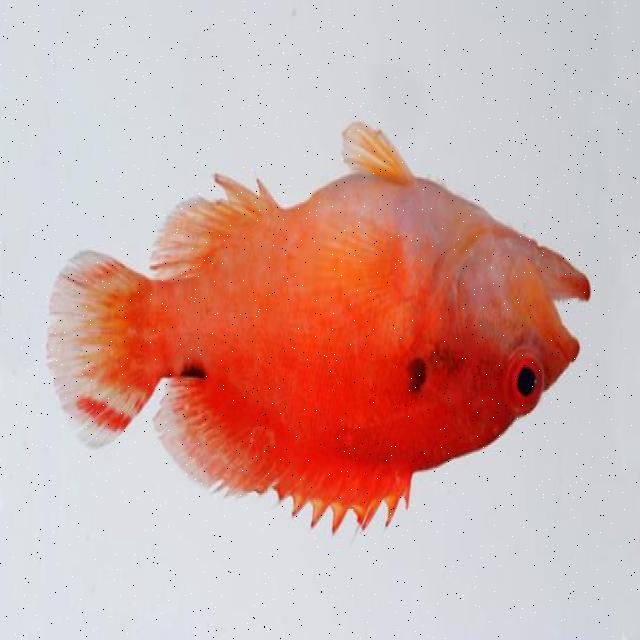ikan: (46, 120, 592, 540)
